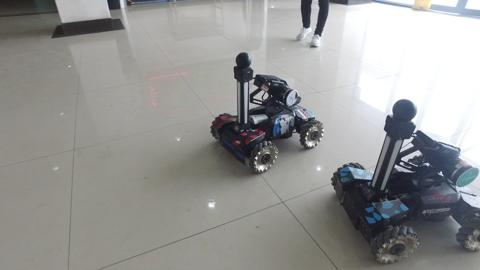chariot: (326, 100, 480, 264), (192, 49, 330, 175)
